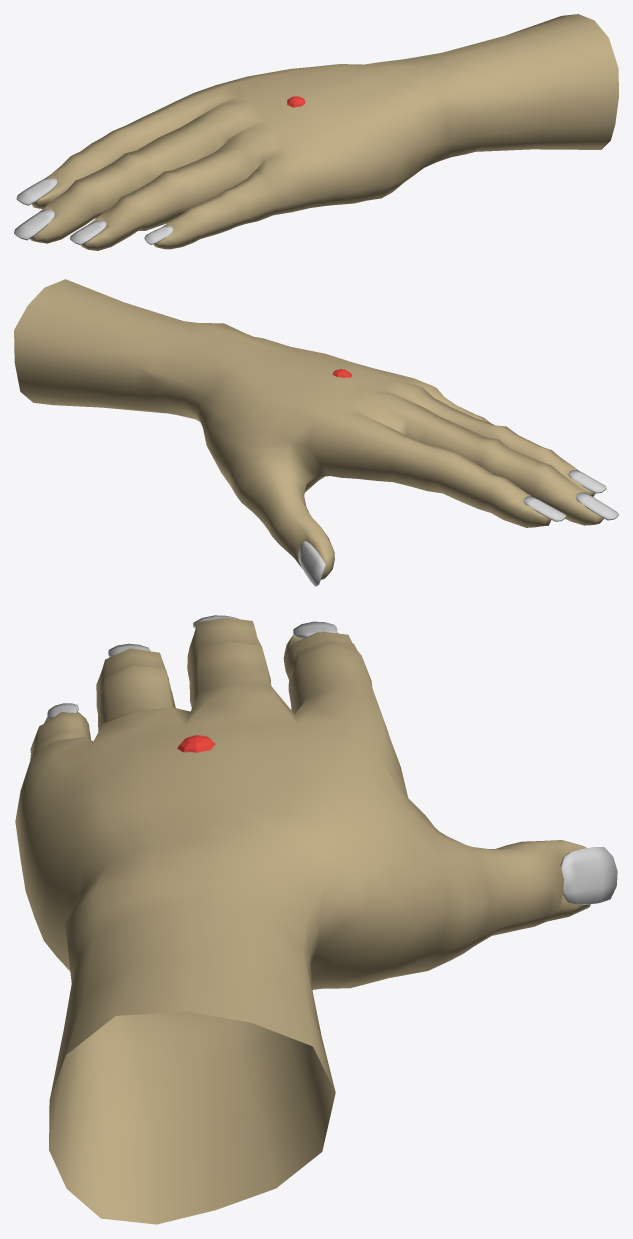
Rendered from Hand.fbx.
3 views of the same model, one above another, from view 1: azimuth 30°, elevation 25°; view 2: azimuth 150°, elevation 25°; view 3: azimuth 270°, elevation 25° (orthographic). The views are drawn at different scales.
Visible parts, largest first — view 1: Hand; view 2: Hand; view 3: Hand.
Part boxes in pixels (box(x1,y1,x2,y2)): Hand: box(14, 14, 618, 250); Hand: box(14, 279, 618, 586); Hand: box(15, 615, 617, 1224).
Size of the model in its own units: 27.82 by 5.95 by 12.71.
